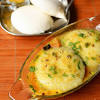idli: (12, 5, 50, 33), (30, 1, 70, 22)
